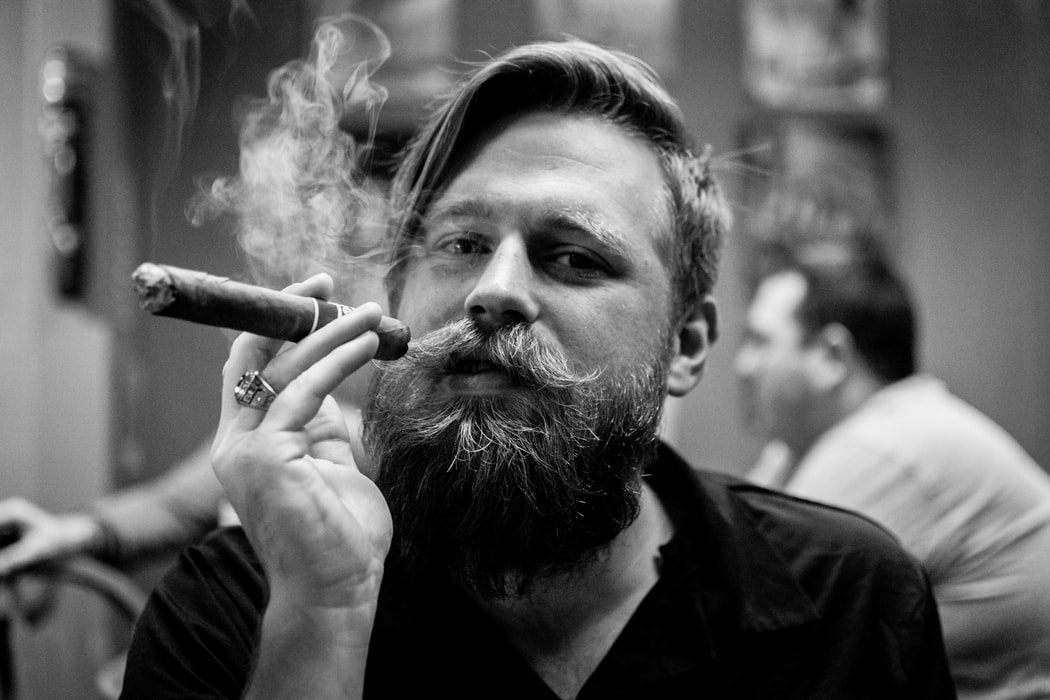beard: (357, 310, 674, 549)
